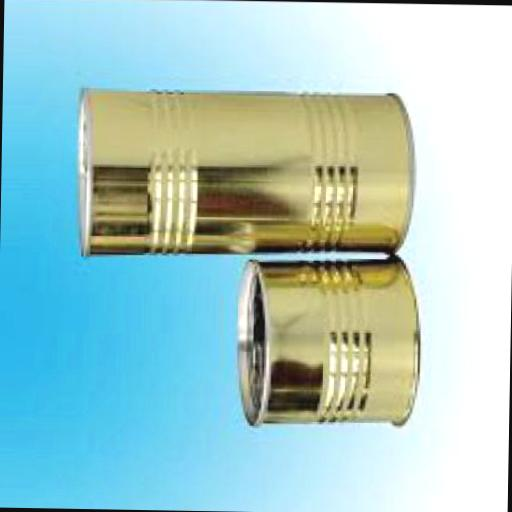metal: (74, 80, 409, 258), (236, 256, 418, 425)
